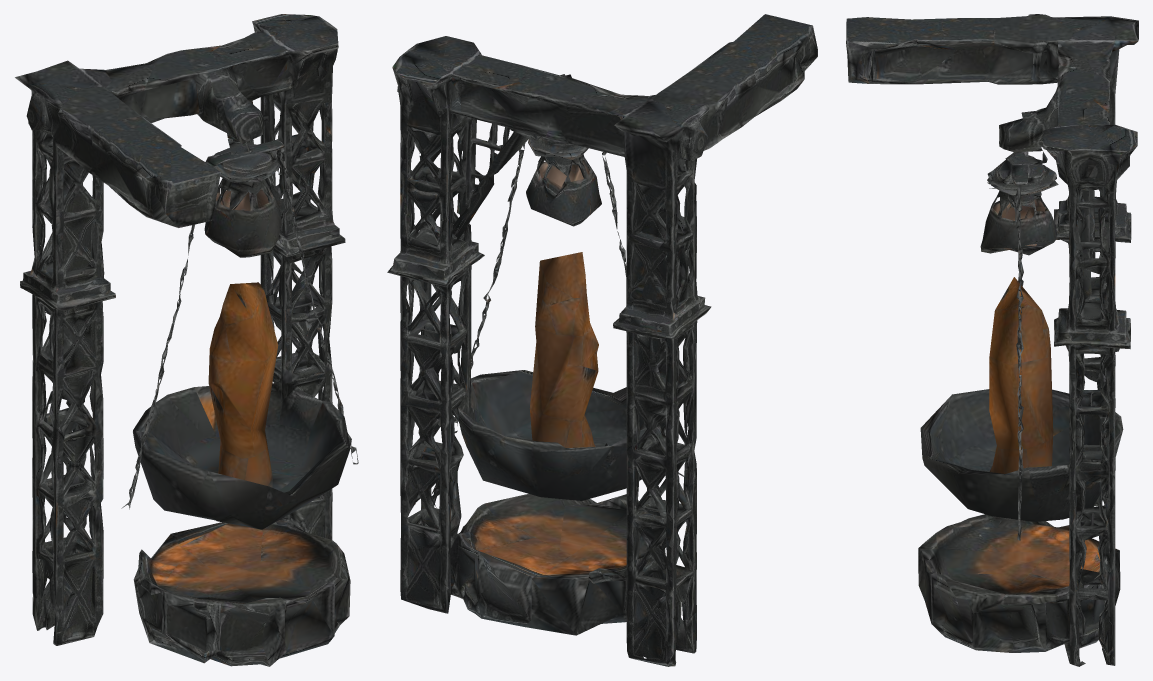
Rendered from heatsink_thermalLadleCrane.783973a2.glb.
3 views of the same model, side by side, from view 1: azimuth 30°, elevation 25°; view 2: azimuth 150°, elevation 25°; view 3: azimuth 270°, elevation 25° (orthographic). The views are drawn at different scales.
Size of the model in its own units: 1.08 by 1.9 by 0.9657.
Materials: 1 (1 with a texture image).
